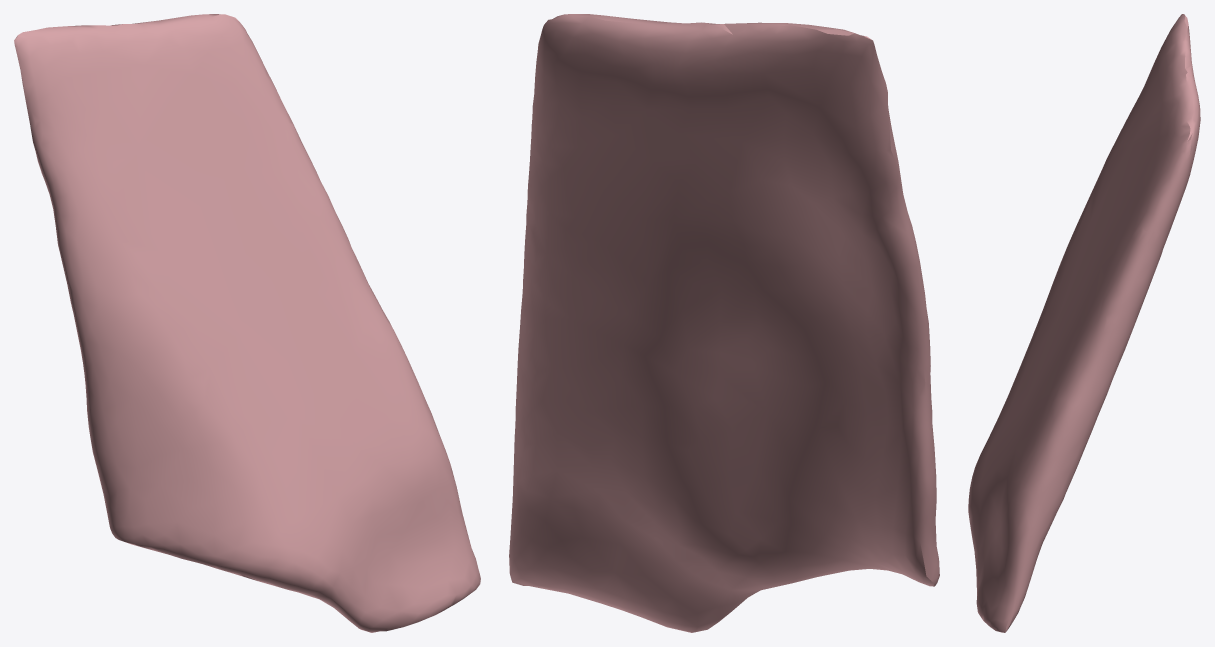
Rendered from fma297774_mm1826m.glb.
3 renders of one model, left to right at view 1: azimuth 30°, elevation 25°; view 2: azimuth 150°, elevation 25°; view 3: azimuth 270°, elevation 25°, orthographic. The views are drawn at different scales.
Visible parts, largest first — view 1: FMA297774_MM1826M; view 2: FMA297774_MM1826M; view 3: FMA297774_MM1826M.
Boxes of the visible parts, left/top/right/bottom form: FMA297774_MM1826M: left=14, top=14, right=480, bottom=632; FMA297774_MM1826M: left=509, top=14, right=939, bottom=632; FMA297774_MM1826M: left=968, top=14, right=1200, bottom=632.
Size of the model in its own units: 0.0342 by 0.0515 by 0.0224.
